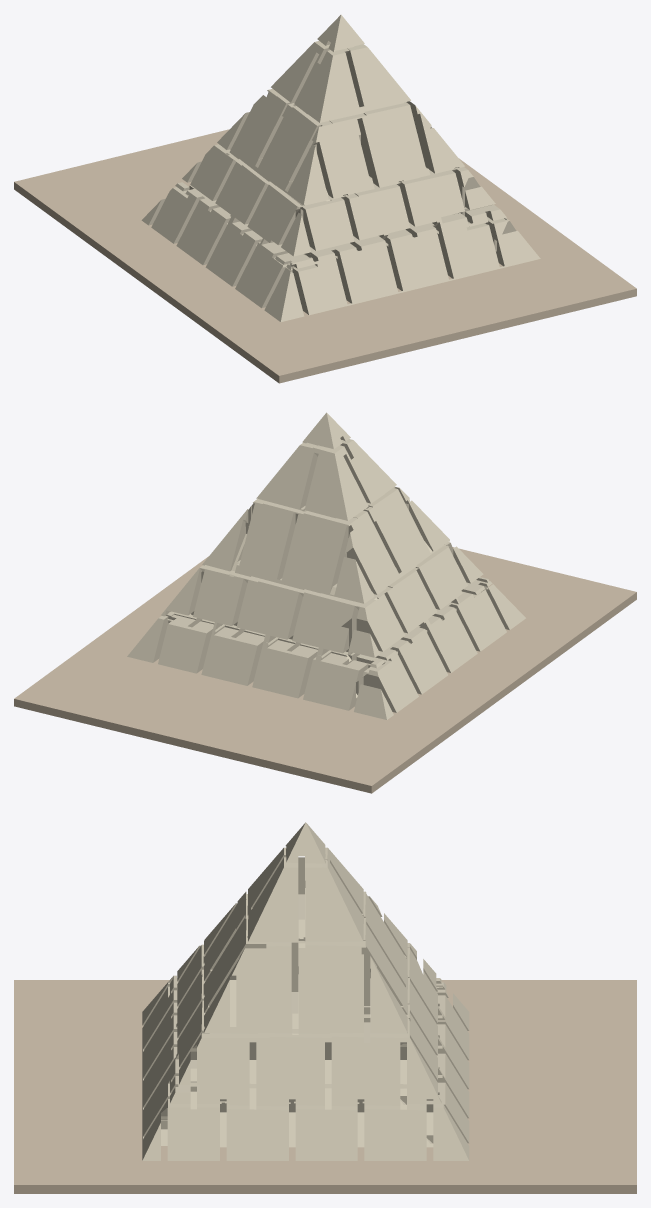
File: Avalyn - Pyramid.glb
3 renders of one model, top to bottom at view 1: azimuth 30°, elevation 25°; view 2: azimuth 150°, elevation 25°; view 3: azimuth 270°, elevation 25°, orthographic. The views are drawn at different scales.
Parts seen in each view (by area): view 1: Mesh_Mesh_head_geo.001_lambert2SG.001; view 2: Mesh_Mesh_head_geo.001_lambert2SG.001; view 3: Mesh_Mesh_head_geo.001_lambert2SG.001.
Boxes of the visible parts, box(x1,y1,x2,y2) form: Mesh_Mesh_head_geo.001_lambert2SG.001: box(14, 14, 636, 383); Mesh_Mesh_head_geo.001_lambert2SG.001: box(14, 412, 636, 793); Mesh_Mesh_head_geo.001_lambert2SG.001: box(14, 822, 636, 1193).
Bounding box in the file's own units: 0.148 × 0.092 × 0.19.
